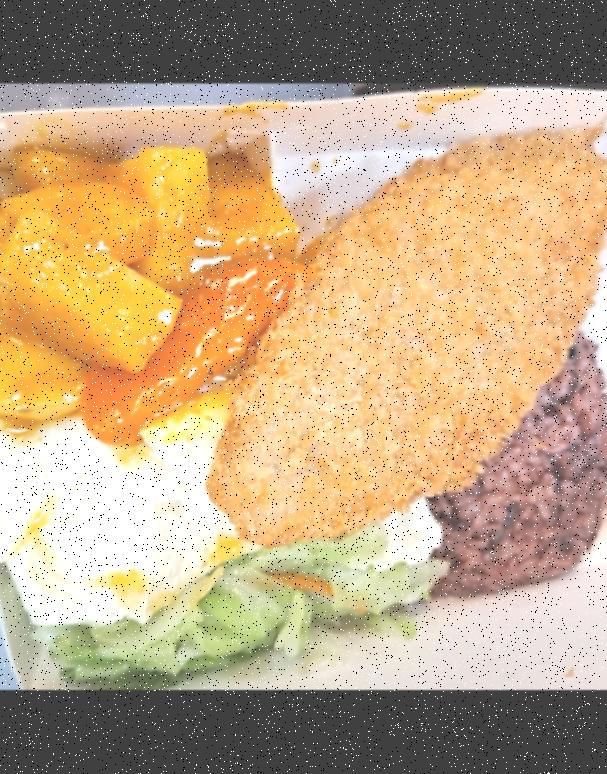box: (0, 85, 607, 690)
fried cod steak: (208, 122, 607, 545)
purple rice: (407, 325, 607, 597)
side dish: (0, 133, 308, 422), (35, 498, 448, 690), (0, 393, 221, 625)
